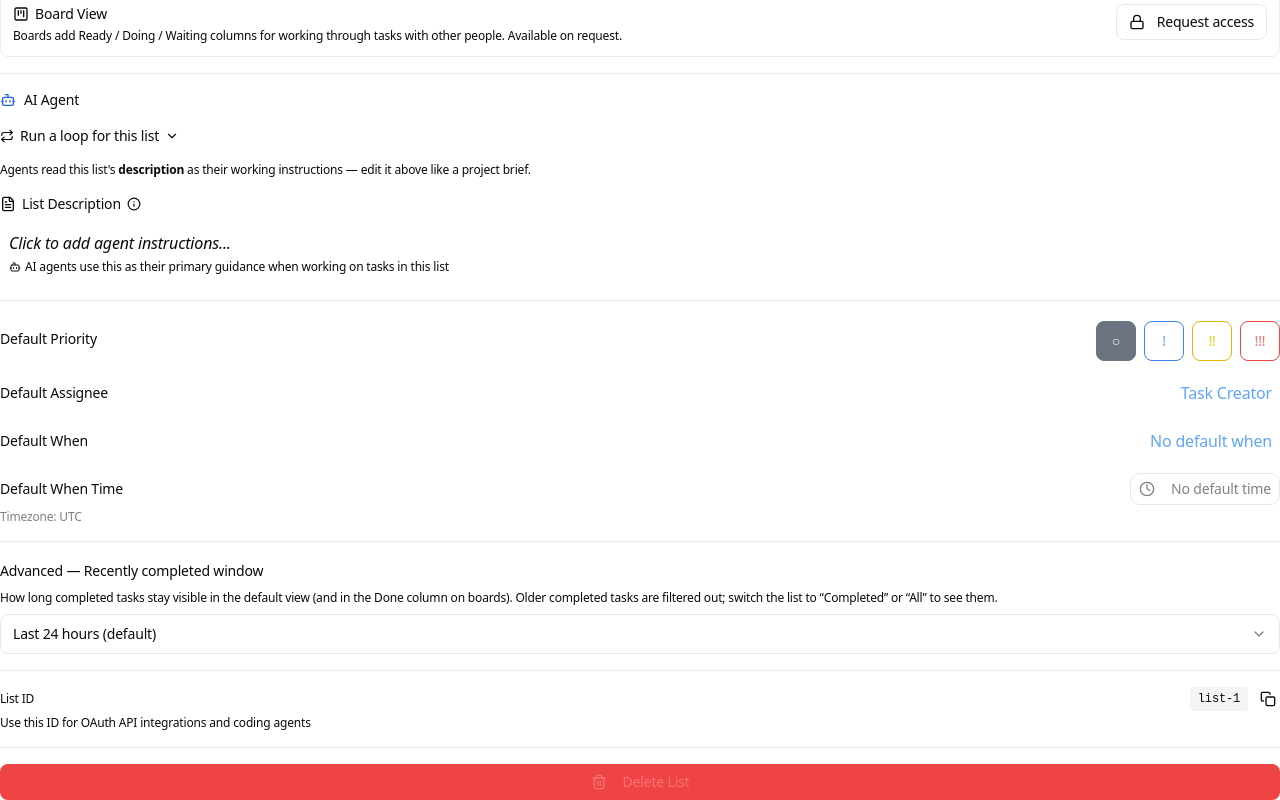
Test case: ListAdminSettings - Delete List Modal › Delete Confirmation Modal › should open modal dialog when delete list button is clicked
Click the button "Delete List". click: (640, 782)
box: x1=0 y1=764 x2=1279 y2=799
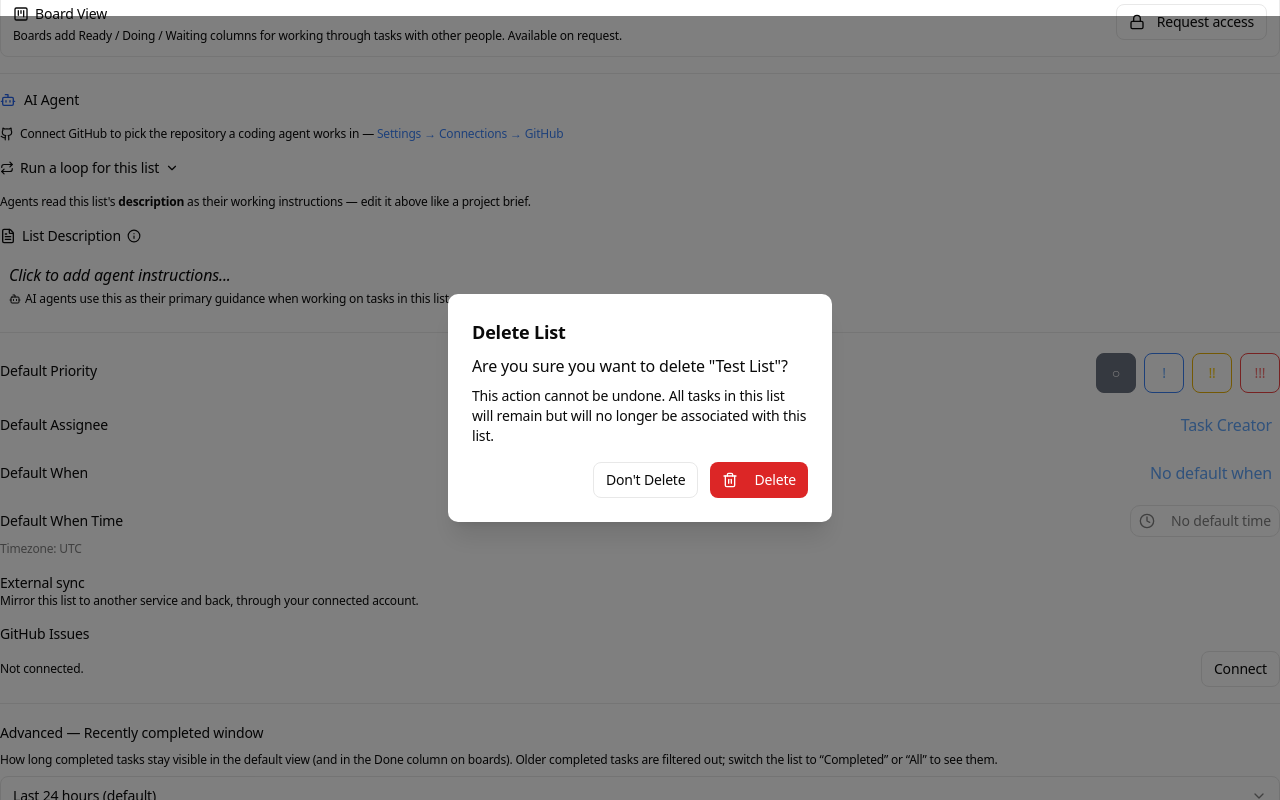
Result: the heading "Delete List" is shown at x1=472 y1=320 x2=566 y2=344
